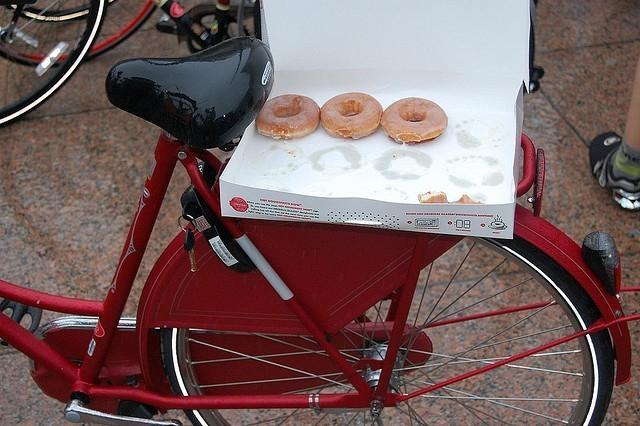bicycle: (0, 36, 639, 426), (1, 0, 108, 127), (86, 1, 263, 62)
